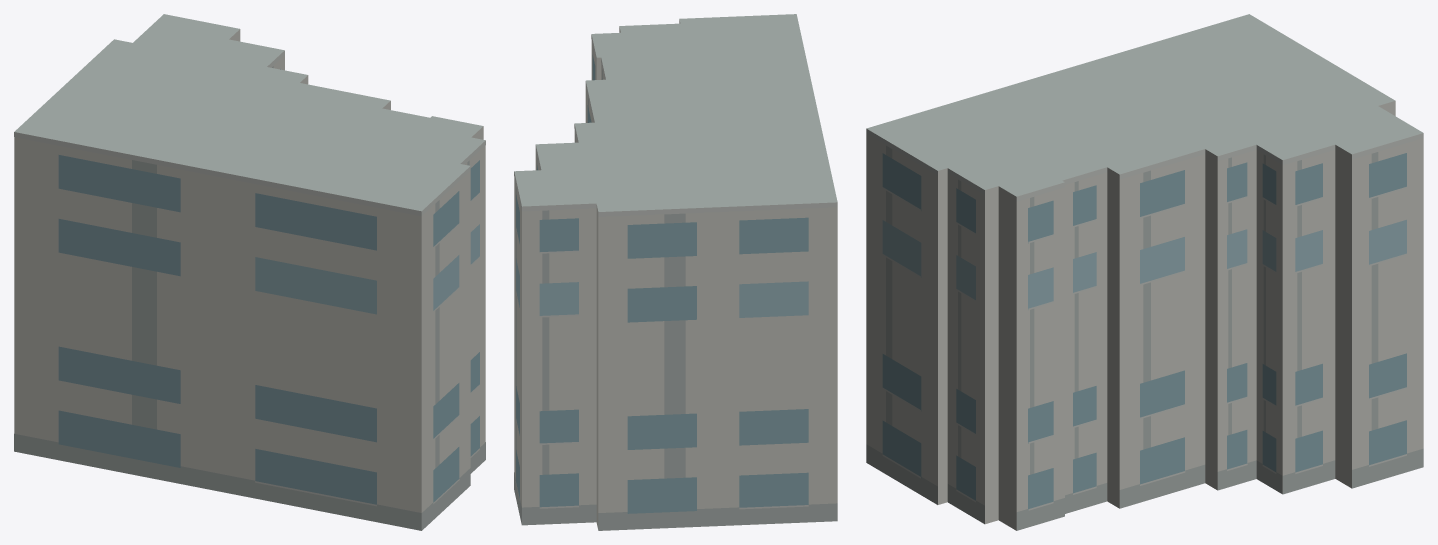
Rendered from survey-upis-32790590.glb.
3 renders of one model, left to right at view 1: azimuth 30°, elevation 25°; view 2: azimuth 150°, elevation 25°; view 3: azimuth 270°, elevation 25°, orthographic. The views are drawn at different scales.
Parts seen in each view (by area): view 1: survey-upis-32790590.tmp; view 2: survey-upis-32790590.tmp; view 3: survey-upis-32790590.tmp.
Part boxes in pixels (box(x1,y1,x2,y2)): survey-upis-32790590.tmp: box(14, 14, 485, 530); survey-upis-32790590.tmp: box(514, 14, 837, 530); survey-upis-32790590.tmp: box(866, 14, 1423, 530).
Size of the model in its own units: 18.18 by 15.5 by 23.44.
